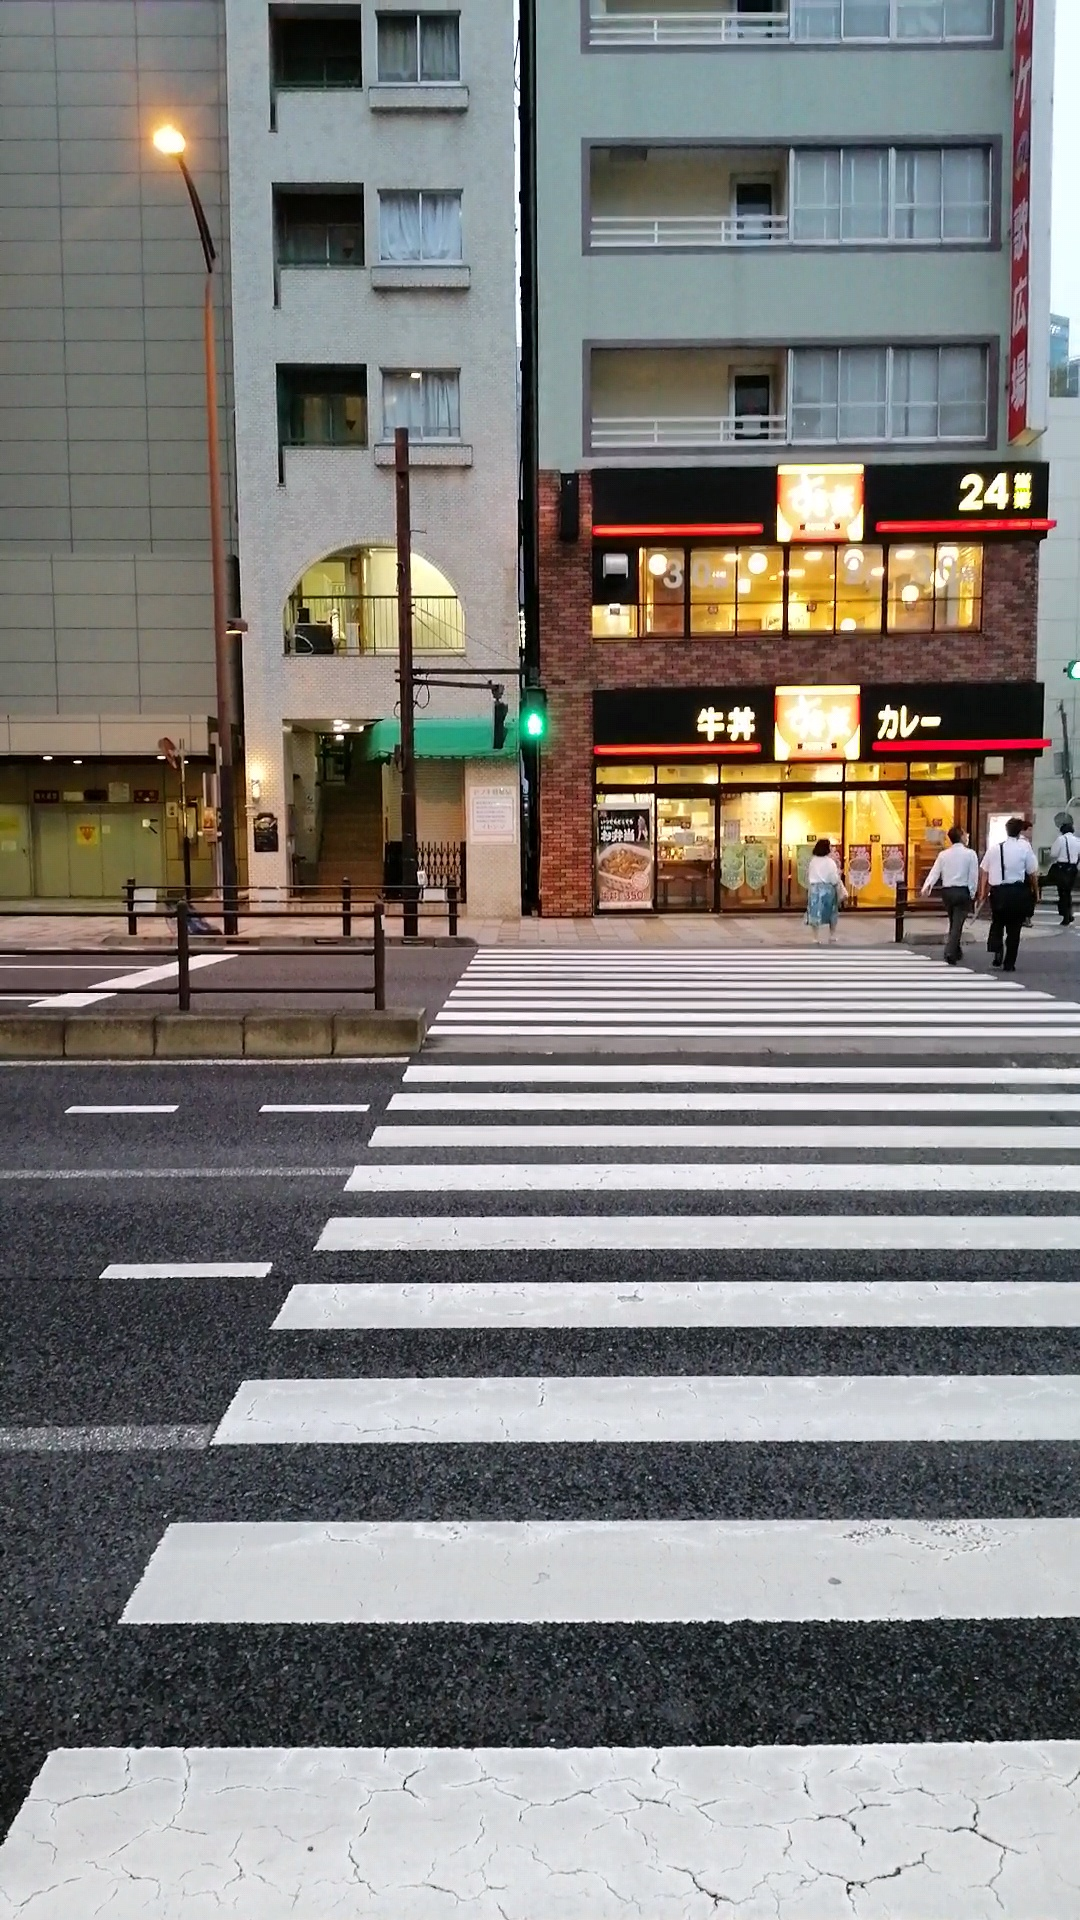green: (518, 687, 547, 738)
